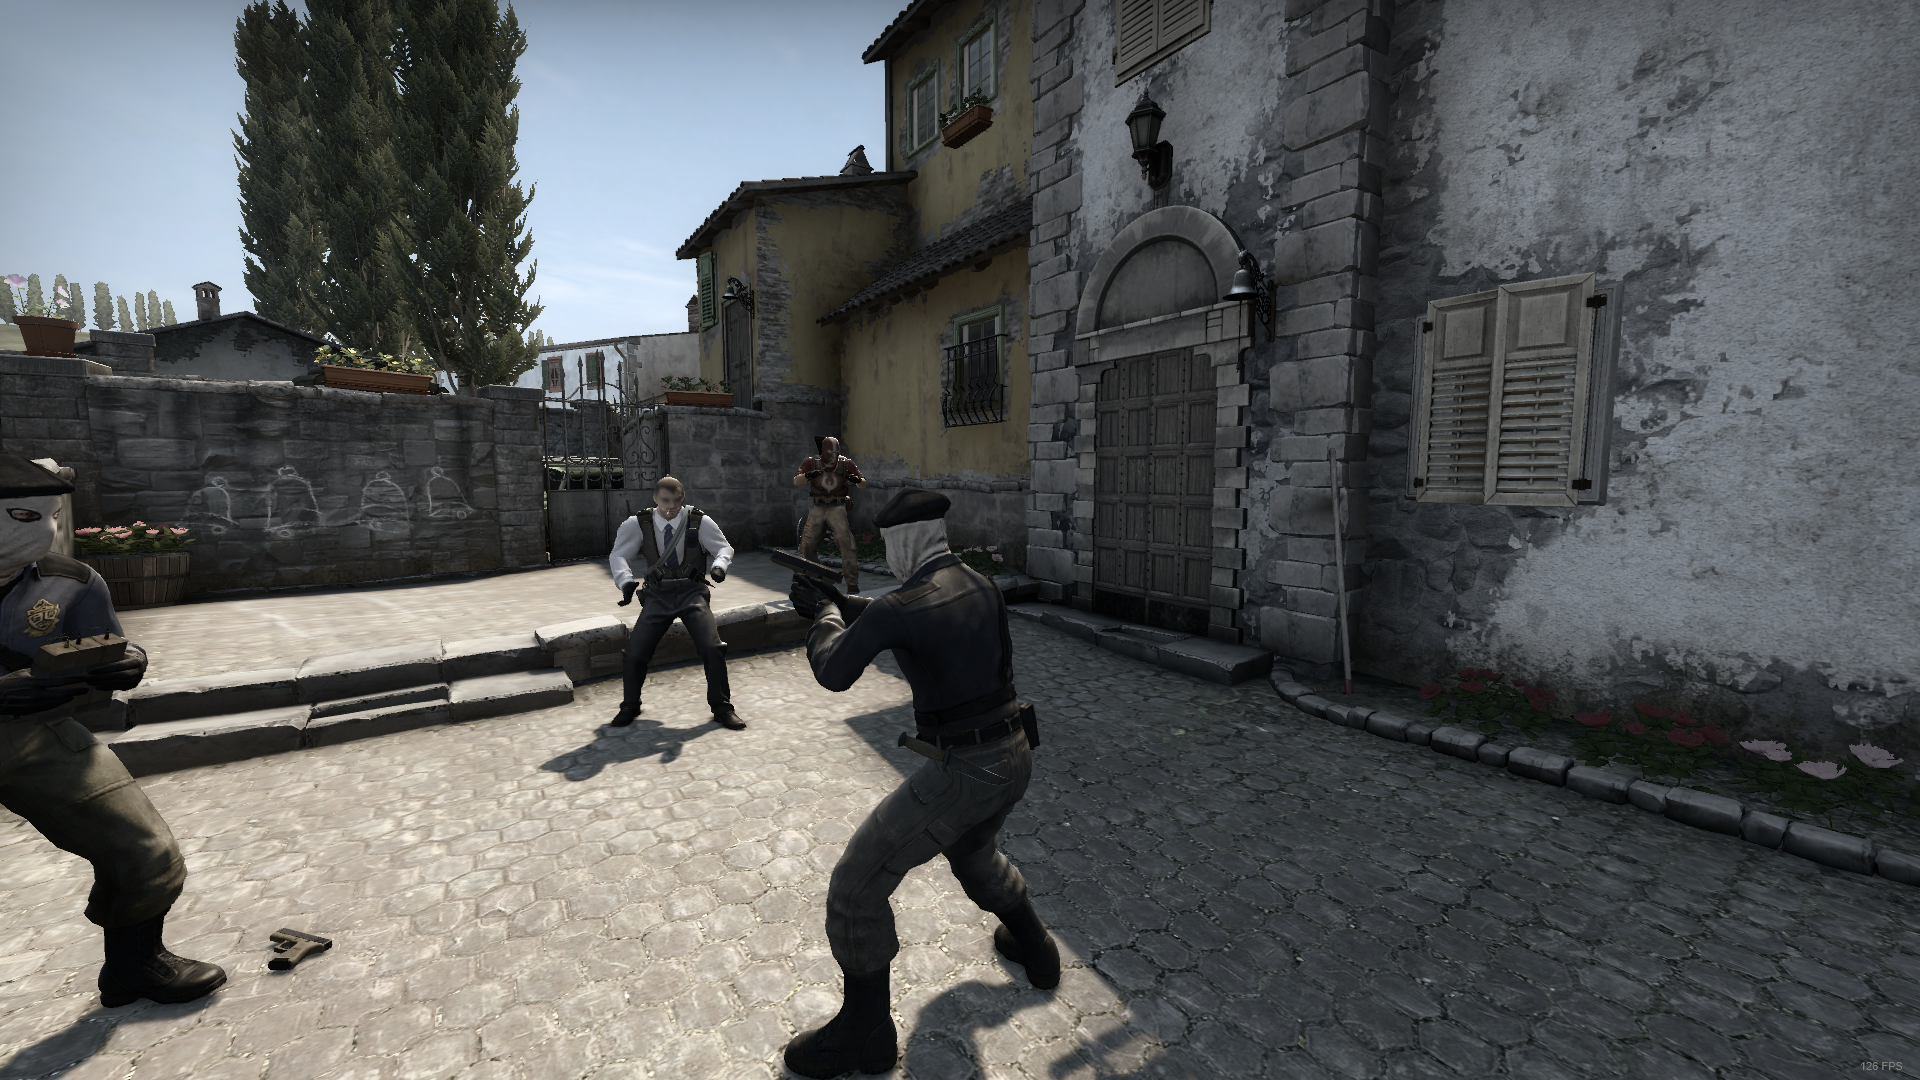t: (790, 487, 1065, 1067), (5, 464, 228, 1017)
